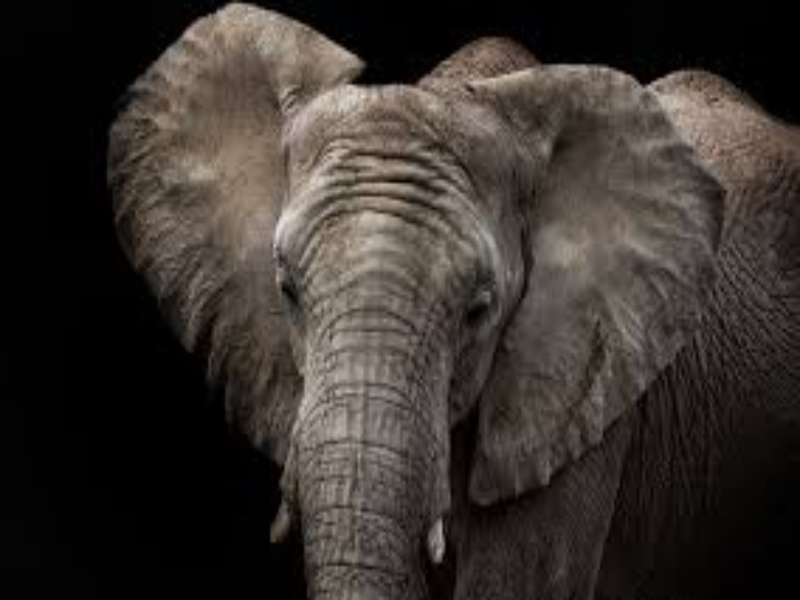elephant: (100, 11, 788, 590)
